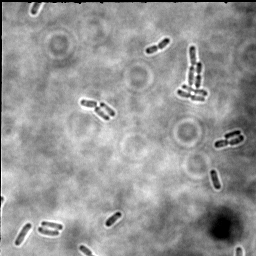Dividing: (144, 36, 172, 56), (213, 133, 245, 149)
Microcolony: (176, 45, 209, 104)
Rod: (14, 222, 33, 247), (104, 211, 123, 228), (209, 168, 223, 191), (99, 102, 117, 118), (37, 226, 60, 238), (40, 220, 63, 231), (93, 107, 110, 121), (79, 98, 98, 109), (222, 129, 242, 139)
